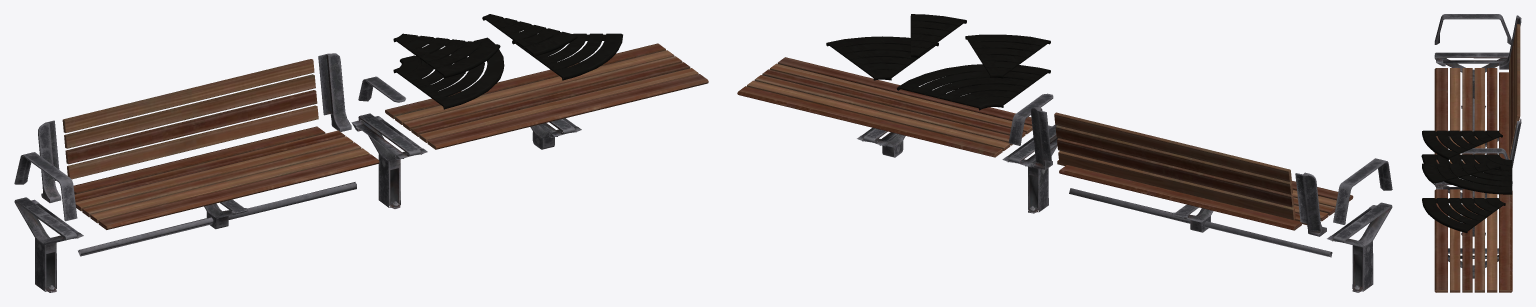
File: modular_street_seating.glb
3 views of the same model, side by side, from view 1: azimuth 30°, elevation 25°; view 2: azimuth 150°, elevation 25°; view 3: azimuth 270°, elevation 25° (orthographic). The views are drawn at different scales.
Visible parts, largest first — view 1: crossbar; view 2: crossbar; view 3: crossbar.
Boxes of the visible parts, x1,y1,x2,y2 form: crossbar: [14, 14, 708, 292]; crossbar: [737, 14, 1392, 292]; crossbar: [1421, 14, 1521, 292].
Bounding box in the file's own units: 4.34 × 0.951 × 0.7729.
5 materials, 5 textured.
